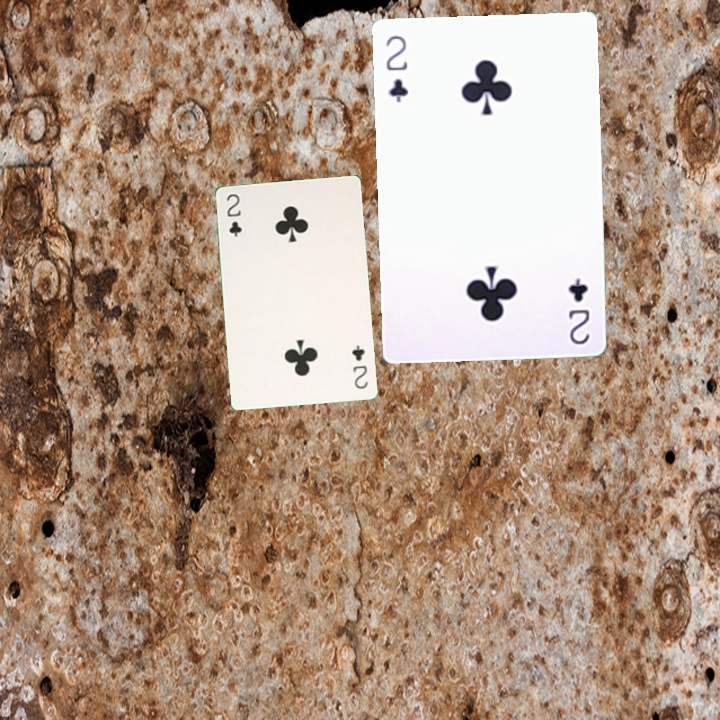2c: (381, 31, 410, 105), (564, 274, 592, 347), (348, 341, 370, 391), (222, 190, 244, 239)
